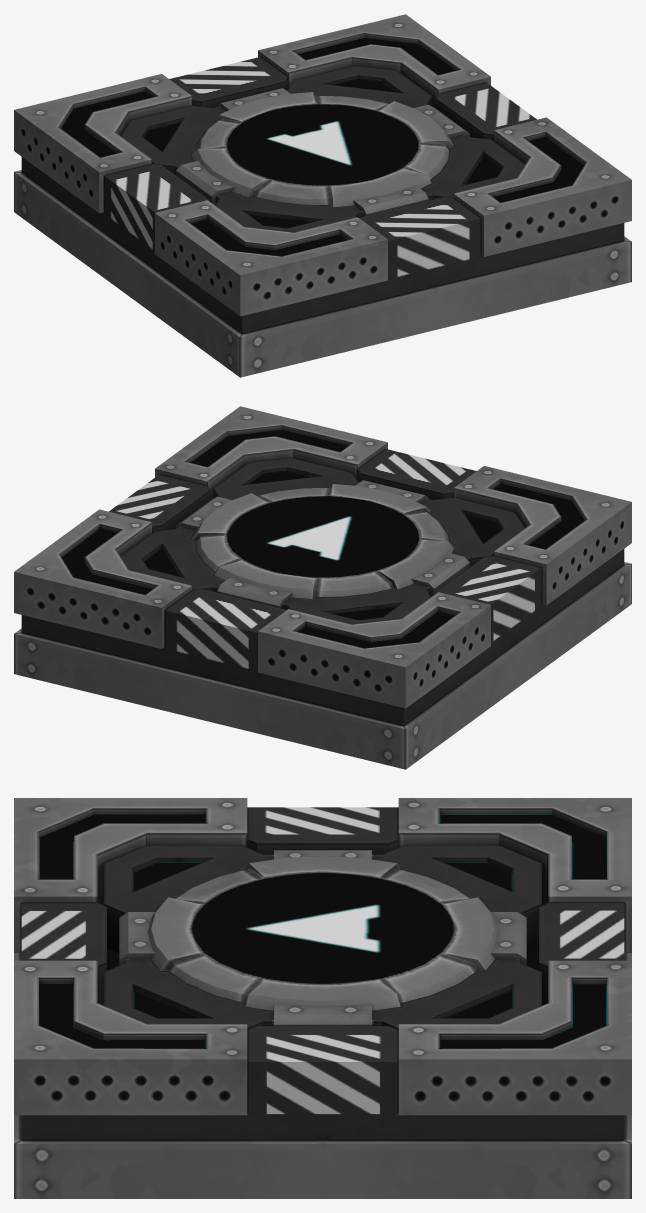
The model's file is obj_interactive_startposition.fbx.
The picture shows the model from 3 angles, top to bottom: view 1: azimuth 30°, elevation 25°; view 2: azimuth 150°, elevation 25°; view 3: azimuth 270°, elevation 25°; orthographic projection. The views are drawn at different scales.
Visible parts, largest first — view 1: LP2; view 2: LP2; view 3: LP2.
Boxes of the visible parts, x1=… form: LP2: x1=14, y1=14, x2=631, y2=377; LP2: x1=14, y1=406, x2=631, y2=769; LP2: x1=14, y1=798, x2=631, y2=1198.
Size of the model in its own units: 4.01 by 1 by 4.01.
